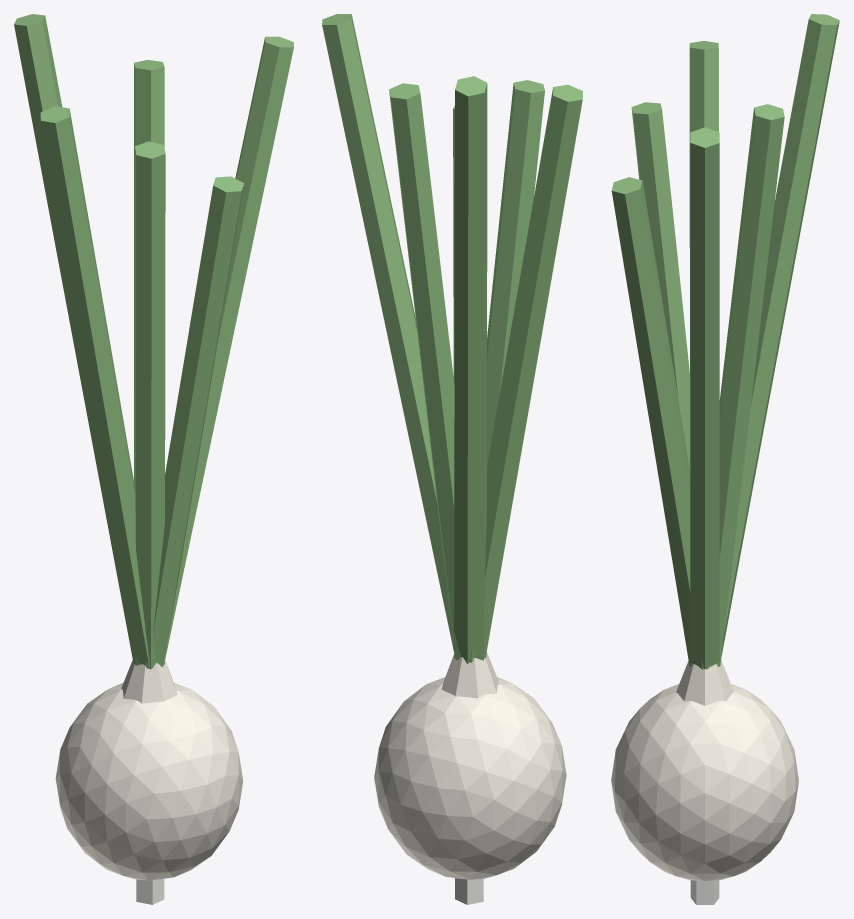
The model's file is cebolla.glb.
3 renders of one model, left to right at view 1: azimuth 30°, elevation 25°; view 2: azimuth 150°, elevation 25°; view 3: azimuth 270°, elevation 25°, orthographic. The views are drawn at different scales.
Parts seen in each view (by area): view 1: verde, cebolla, blanco; view 2: verde, cebolla, blanco; view 3: verde, cebolla, blanco.
Boxes of the visible parts, box(x1,y1,x2,y2) form: verde: box(14, 14, 293, 669); cebolla: box(55, 660, 243, 880); blanco: box(136, 879, 164, 904); verde: box(322, 14, 582, 663); cebolla: box(374, 652, 566, 879); blanco: box(455, 878, 483, 904); verde: box(611, 14, 839, 669); cebolla: box(611, 660, 798, 881); blanco: box(690, 880, 719, 904).
Bounding box in the file's own units: 0.1559 × 0.5015 × 0.1217.
